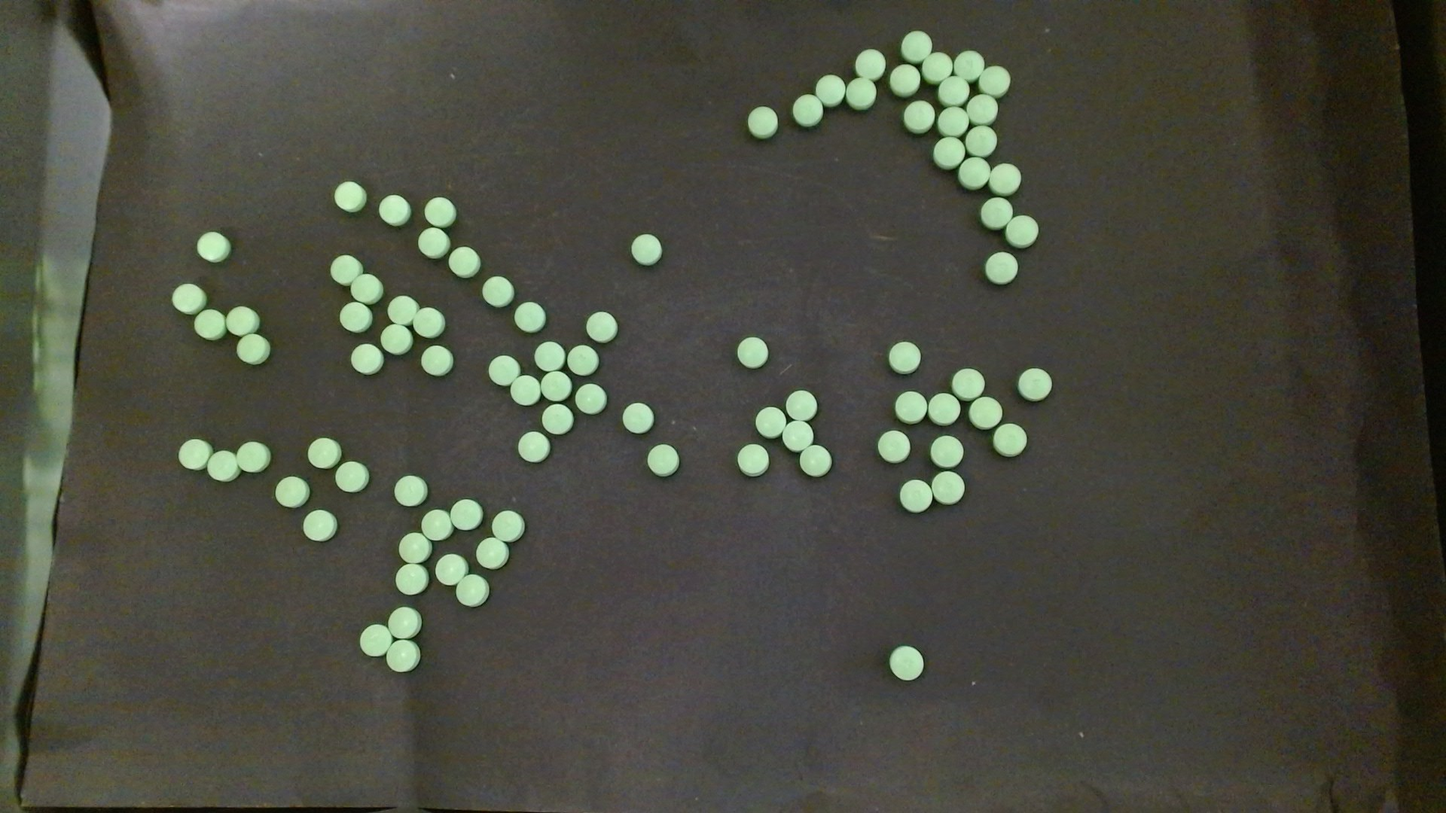Circle: (1018, 366, 1053, 403), (889, 644, 924, 681), (991, 423, 1027, 457), (876, 429, 912, 463), (887, 340, 921, 375), (302, 508, 337, 542), (455, 573, 490, 607), (984, 251, 1018, 285), (386, 639, 420, 673), (956, 156, 990, 190), (195, 230, 230, 263), (1005, 215, 1039, 248), (746, 105, 779, 139), (646, 443, 680, 476), (737, 443, 770, 477), (932, 135, 965, 169), (475, 537, 509, 570), (236, 440, 270, 473), (902, 99, 935, 133), (932, 470, 964, 505), (585, 310, 618, 343), (894, 390, 927, 423), (953, 367, 986, 400), (359, 623, 392, 656), (899, 480, 932, 513), (936, 103, 969, 136), (398, 534, 431, 567), (394, 474, 427, 507), (799, 445, 833, 477), (517, 431, 551, 463), (395, 563, 429, 595), (755, 403, 787, 437), (335, 461, 369, 493), (236, 333, 270, 365), (737, 335, 770, 367), (377, 193, 410, 225), (491, 509, 524, 541), (965, 125, 997, 158), (781, 417, 814, 449), (931, 434, 963, 467), (388, 606, 421, 638), (978, 65, 1011, 97), (275, 476, 309, 507), (334, 180, 366, 212), (630, 233, 662, 265), (448, 246, 480, 278), (785, 388, 817, 420), (418, 227, 450, 259), (622, 402, 654, 434), (900, 30, 932, 62), (307, 437, 340, 468), (420, 345, 453, 376), (987, 163, 1020, 194), (225, 306, 259, 336), (178, 437, 212, 467), (929, 391, 959, 425), (890, 62, 920, 96), (351, 343, 383, 374), (967, 93, 998, 125), (980, 196, 1011, 228), (541, 403, 573, 434), (953, 49, 984, 81), (330, 254, 362, 285), (575, 382, 606, 414), (340, 301, 372, 332), (514, 301, 545, 333), (845, 77, 876, 109), (937, 75, 969, 106), (435, 553, 468, 583), (792, 93, 822, 126), (424, 196, 455, 227), (413, 306, 444, 337), (568, 344, 599, 375), (381, 323, 412, 354), (489, 354, 520, 385), (969, 397, 1000, 428), (856, 48, 886, 80), (208, 449, 238, 481), (420, 509, 450, 539), (388, 294, 418, 324), (452, 499, 481, 530), (812, 75, 843, 104), (174, 285, 204, 314), (534, 341, 564, 370), (351, 274, 381, 303), (510, 375, 539, 405), (485, 273, 514, 303), (194, 310, 223, 339), (925, 51, 953, 81), (537, 369, 566, 397)
